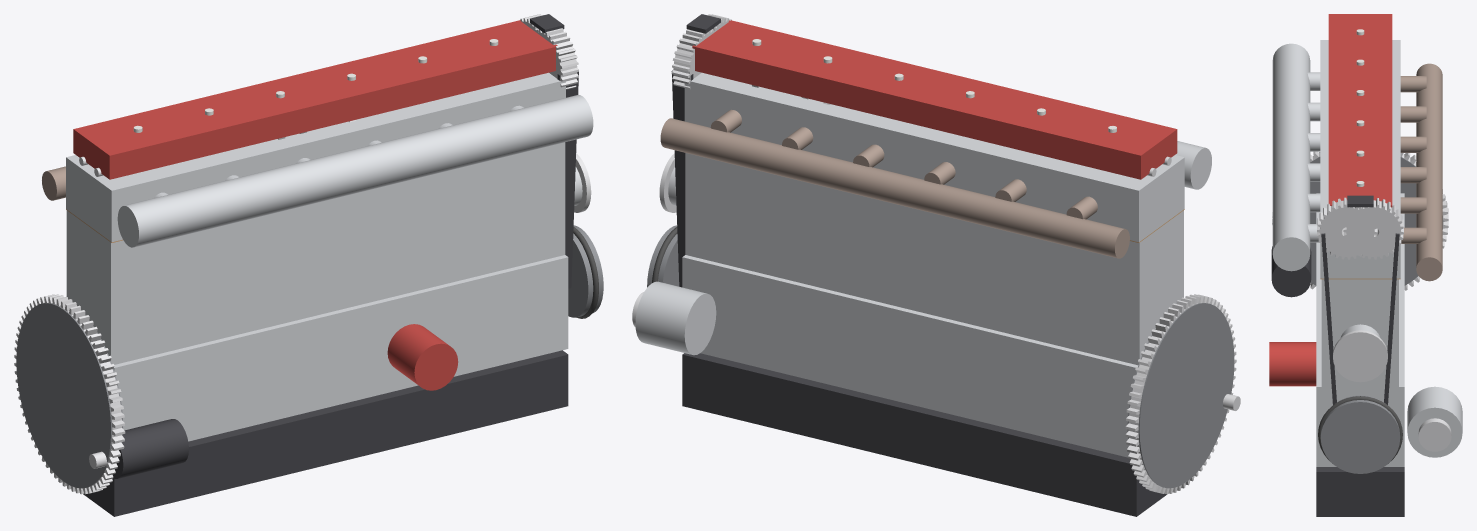
The model's file is combustion_6_linea_90p0_8p6_8p6_dohc_4_no_correa_nafta.glb.
3 views of the same model, side by side, from view 1: azimuth 30°, elevation 25°; view 2: azimuth 150°, elevation 25°; view 3: azimuth 270°, elevation 25° (orthographic). The views are drawn at different scales.
Parts seen in each view (by area): view 1: bloque, tapa_valvulas_0, carter, multiple_admision_0, culata_0, volante_inercia, motor_arranque, filtro_aceite, polea_ciguenal, distribucion_correa, distribucion_poleas, bomba_agua (+1 smaller); view 2: bloque, tapa_valvulas_0, carter, culata_0, multiple_escape_0, volante_inercia, alternador, distribucion_correa, polea_ciguenal, distribucion_poleas, multiple_admision_0, bomba_agua; view 3: tapa_valvulas_0, multiple_admision_0, bloque, multiple_escape_0, polea_ciguenal, culata_0, carter, distribucion_poleas, alternador, bomba_agua, volante_inercia, filtro_aceite (+2 smaller).
Boxes of the visible parts, x1,y1,x2,y2 form: bloque: [66, 142, 568, 441]; tapa_valvulas_0: [73, 20, 557, 179]; carter: [83, 350, 568, 516]; multiple_admision_0: [117, 95, 593, 247]; culata_0: [66, 72, 565, 242]; volante_inercia: [14, 294, 125, 494]; motor_arranque: [89, 419, 188, 478]; filtro_aceite: [387, 324, 458, 390]; polea_ciguenal: [568, 225, 603, 318]; distribucion_correa: [530, 14, 578, 288]; distribucion_poleas: [519, 14, 578, 89]; bomba_agua: [574, 153, 591, 212]; bloque: [682, 153, 1183, 457]; tapa_valvulas_0: [692, 20, 1177, 179]; carter: [682, 353, 1166, 516]; culata_0: [684, 72, 1184, 242]; multiple_escape_0: [660, 109, 1129, 258]; volante_inercia: [1125, 294, 1236, 494]; alternador: [632, 281, 716, 355]; distribucion_correa: [671, 14, 720, 287]; polea_ciguenal: [647, 225, 679, 287]; distribucion_poleas: [671, 14, 731, 88]; multiple_admision_0: [1175, 141, 1211, 189]; bomba_agua: [659, 153, 676, 212]; tapa_valvulas_0: [1328, 14, 1392, 207]; multiple_admision_0: [1272, 43, 1320, 271]; bloque: [1316, 193, 1404, 466]; multiple_escape_0: [1400, 63, 1442, 281]; polea_ciguenal: [1318, 395, 1402, 473]; culata_0: [1320, 40, 1400, 278]; carter: [1316, 467, 1404, 516]; distribucion_poleas: [1317, 197, 1403, 259]; alternador: [1407, 386, 1462, 457]; bomba_agua: [1333, 324, 1387, 382]; volante_inercia: [1272, 151, 1448, 290]; filtro_aceite: [1269, 342, 1316, 386].
Size of the model in its own units: 82.9 by 54.77 by 30.1.
